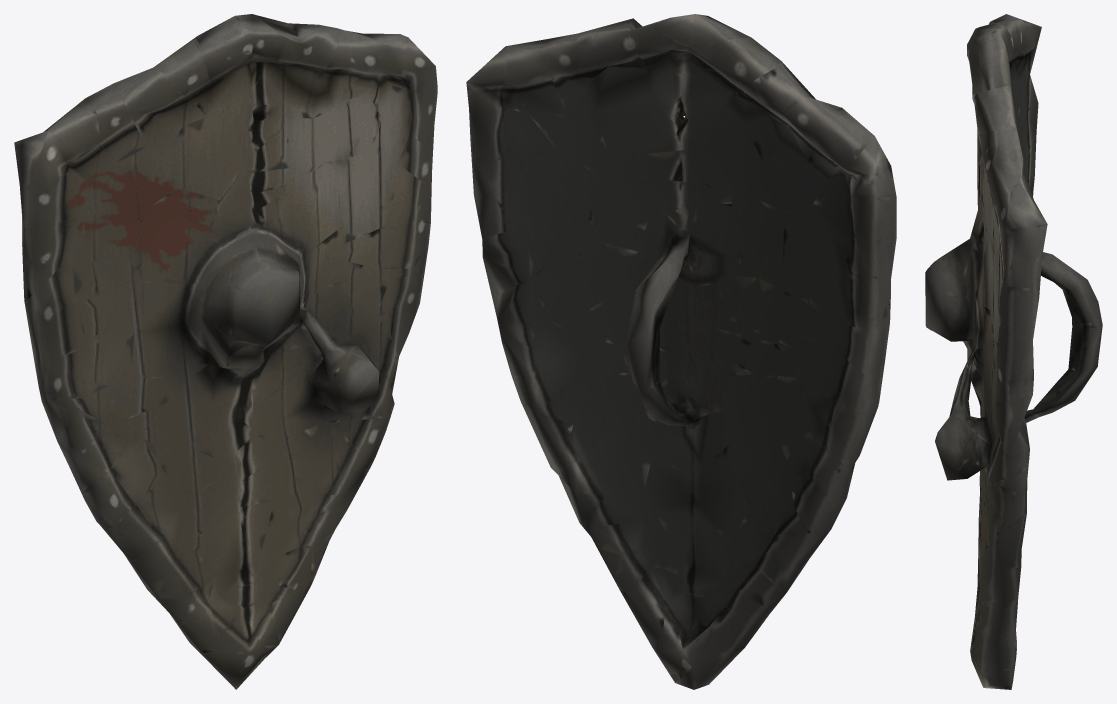
File: shield_broken.glb
3 renders of one model, left to right at view 1: azimuth 30°, elevation 25°; view 2: azimuth 150°, elevation 25°; view 3: azimuth 270°, elevation 25°, orthographic.
Bounding box in the file's own units: 1.29 × 1.98 × 0.481.
1 material, 1 textured.
